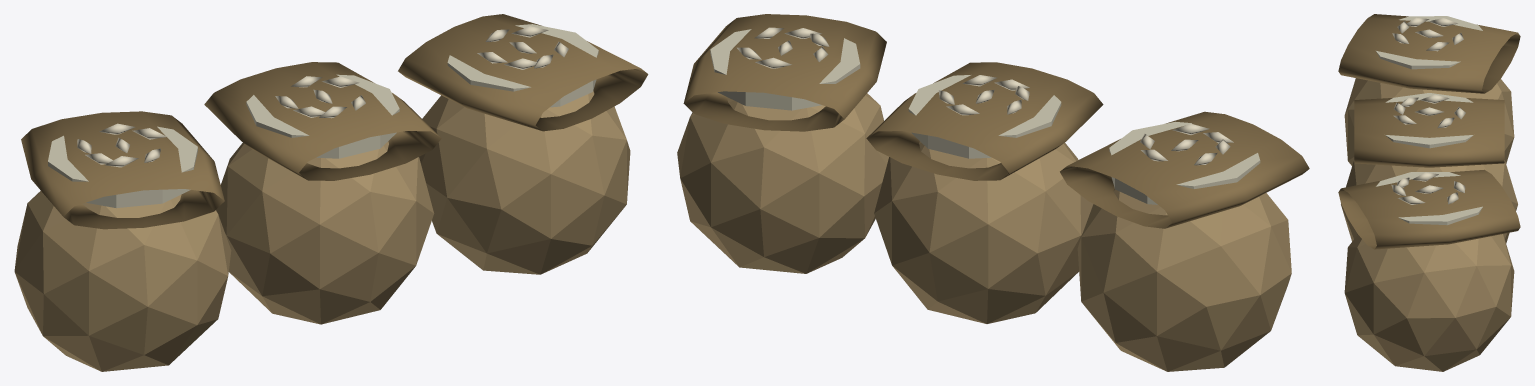
File: pile-milledRice-3.gltf
3 views of the same model, side by side, from view 1: azimuth 30°, elevation 25°; view 2: azimuth 150°, elevation 25°; view 3: azimuth 270°, elevation 25° (orthographic). The views are drawn at different scales.
Parts seen in each view (by area): view 1: pile-milledRice-3; view 2: pile-milledRice-3; view 3: pile-milledRice-3.
Part boxes in pixels (box(x1,y1,x2,y2)): pile-milledRice-3: box(14, 14, 648, 371); pile-milledRice-3: box(677, 14, 1309, 371); pile-milledRice-3: box(1338, 14, 1520, 371).
Bounding box in the file's own units: 0.7915 × 0.2915 × 0.267.
